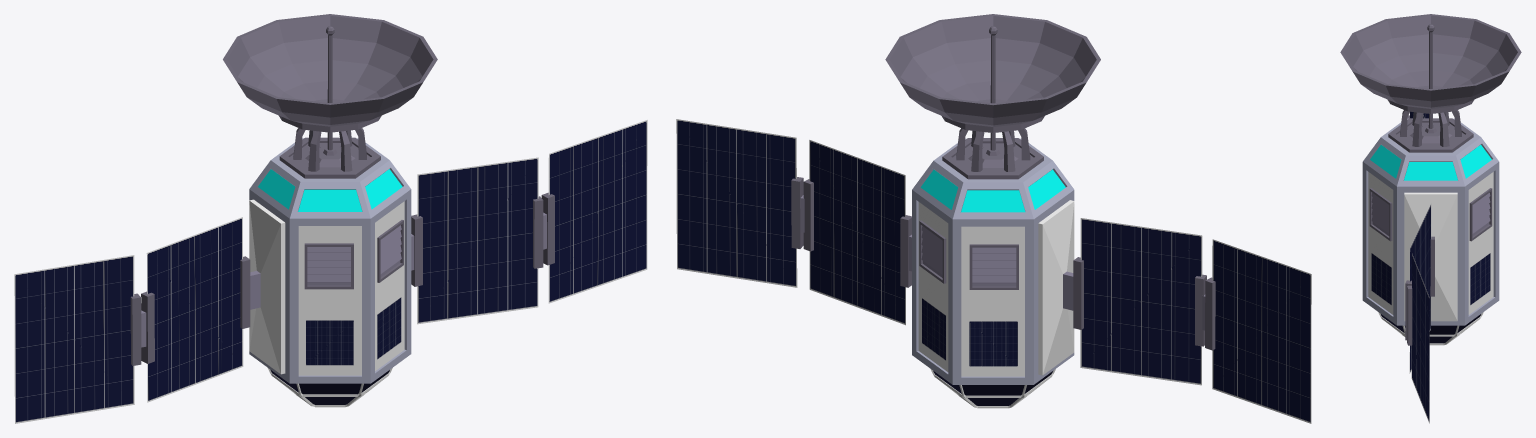
File: радар.fbx
The picture shows the model from 3 angles, left to right: view 1: azimuth 30°, elevation 25°; view 2: azimuth 150°, elevation 25°; view 3: azimuth 270°, elevation 25°; orthographic projection. The views are drawn at different scales.
Visible parts, largest first — view 1: радар; view 2: радар; view 3: радар.
Boxes of the visible parts, left/top/right/bottom form: радар: left=14, top=14, right=647, bottom=423; радар: left=676, top=14, right=1311, bottom=423; радар: left=1340, top=14, right=1521, bottom=423.
Bounding box in the file's own units: 1378 × 778 × 406.
